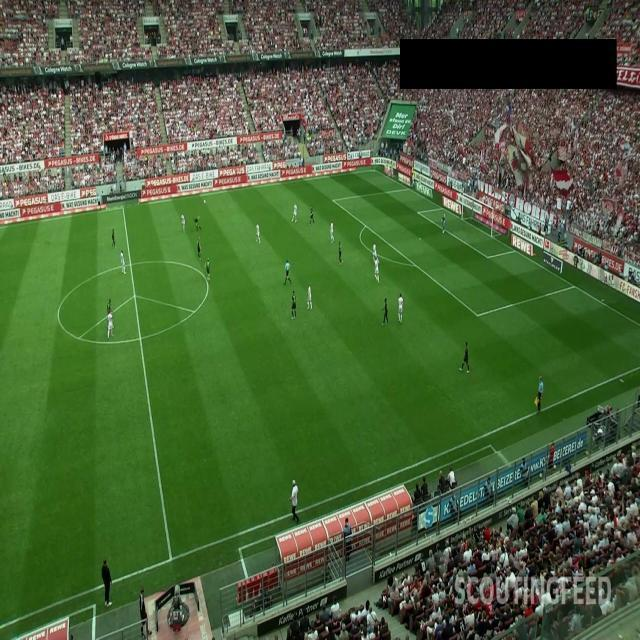Ball: (204, 198, 206, 204)
Corner: (370, 154, 378, 175)
GoalKeeper: (442, 213, 446, 234)
Referee: (534, 375, 544, 413), (284, 258, 292, 286), (96, 192, 102, 213)
TEAM 1: (107, 308, 115, 340), (374, 255, 381, 283), (372, 241, 380, 265), (398, 292, 404, 324), (290, 203, 298, 223), (307, 284, 313, 310), (120, 250, 126, 274), (330, 220, 334, 243), (256, 222, 260, 243), (181, 214, 185, 232)
TEAM 2: (460, 341, 470, 373), (106, 298, 114, 329), (381, 296, 389, 326), (291, 290, 297, 320), (204, 256, 210, 280), (196, 237, 202, 259), (309, 204, 315, 224), (193, 217, 201, 230), (338, 240, 342, 264), (112, 228, 116, 248)
